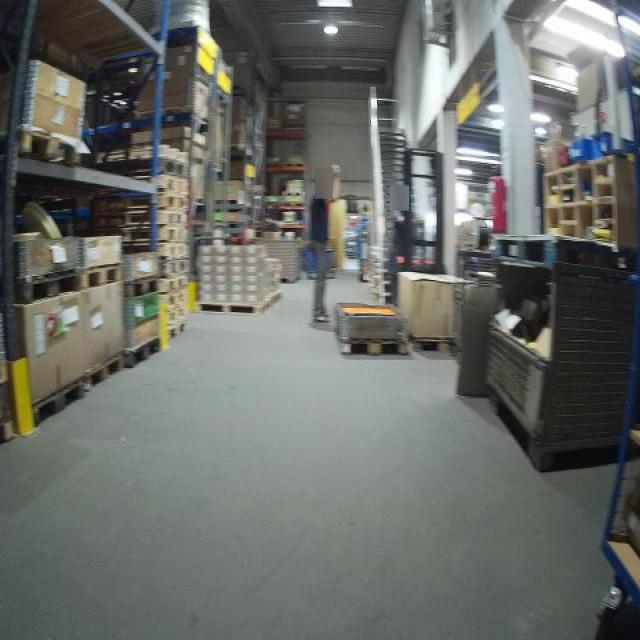pallet: (11, 126, 83, 165), (16, 265, 85, 305), (32, 375, 83, 428), (334, 327, 405, 356), (96, 213, 190, 231), (84, 350, 125, 391), (97, 180, 190, 198), (195, 296, 270, 317), (96, 147, 193, 162), (97, 198, 190, 213), (81, 261, 123, 292), (126, 334, 161, 371), (96, 231, 188, 242), (123, 276, 158, 303), (405, 336, 458, 353), (163, 321, 191, 345), (162, 307, 187, 332), (153, 164, 190, 180), (164, 288, 188, 308), (165, 277, 190, 291), (163, 259, 189, 272), (163, 245, 188, 256), (268, 289, 283, 303), (284, 192, 305, 198), (285, 162, 305, 168)
pallet_truck: (386, 141, 450, 312)
stillage: (487, 252, 637, 475), (254, 235, 308, 286)
